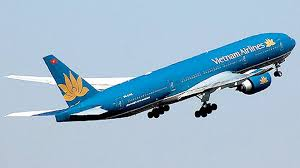maybay_dansu: (13, 29, 292, 126)
